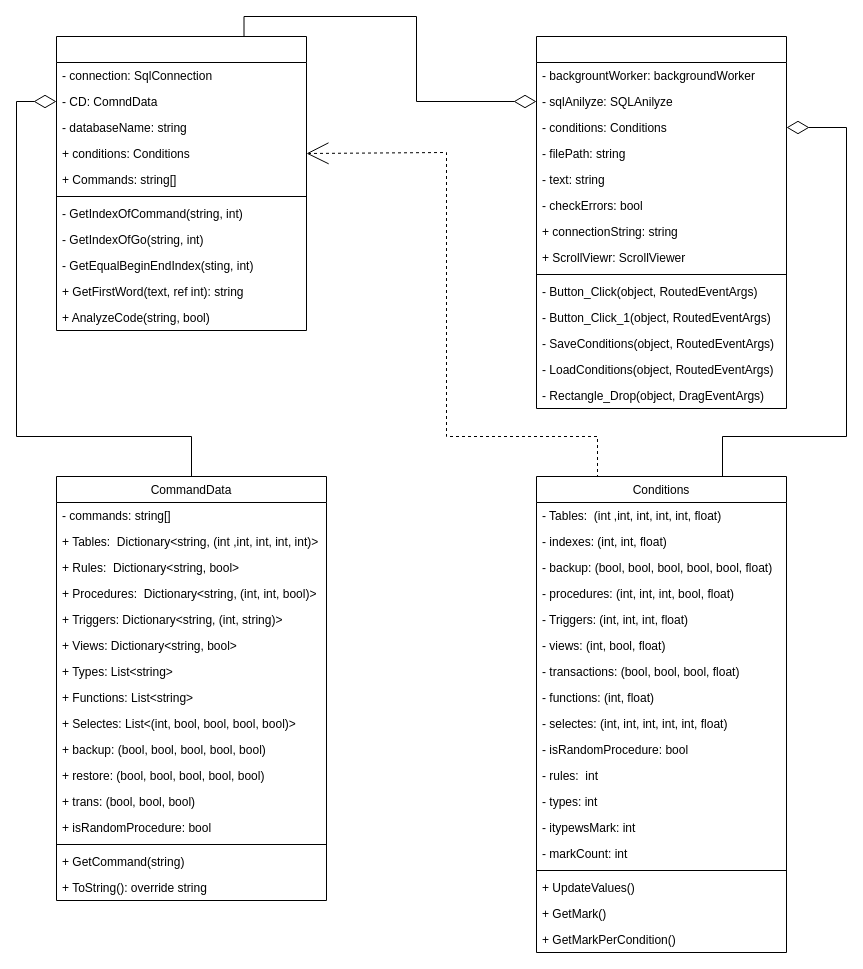
Some shapes in this 863 by 969 pixel diagram are drawn without their labels. The shapes that lost their labels are listed below. From the top down, each one's box as (x1, y1, x2, y2) in pixels, then its label:
(56, 36, 306, 330): sqlAnilyze
(536, 36, 786, 408): MainWindow
